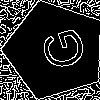G: (30, 25, 89, 76)
